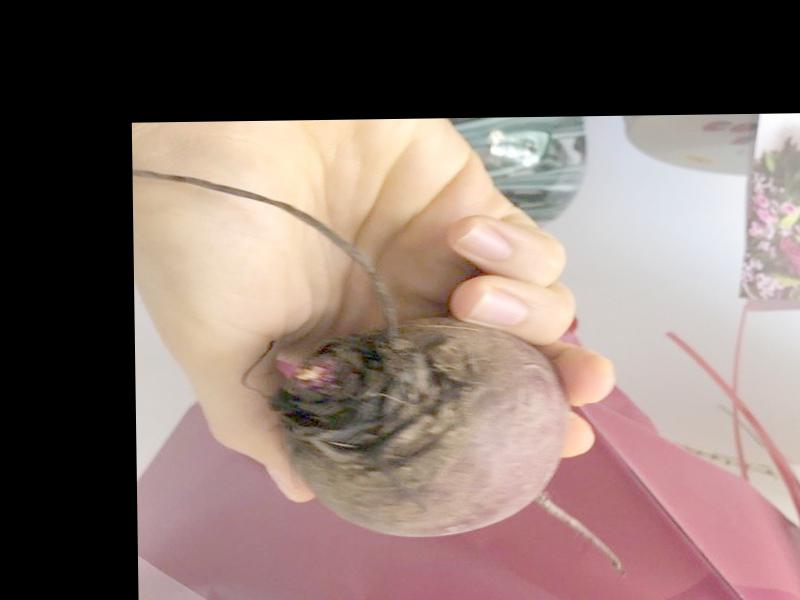Beet: (137, 162, 627, 581)
